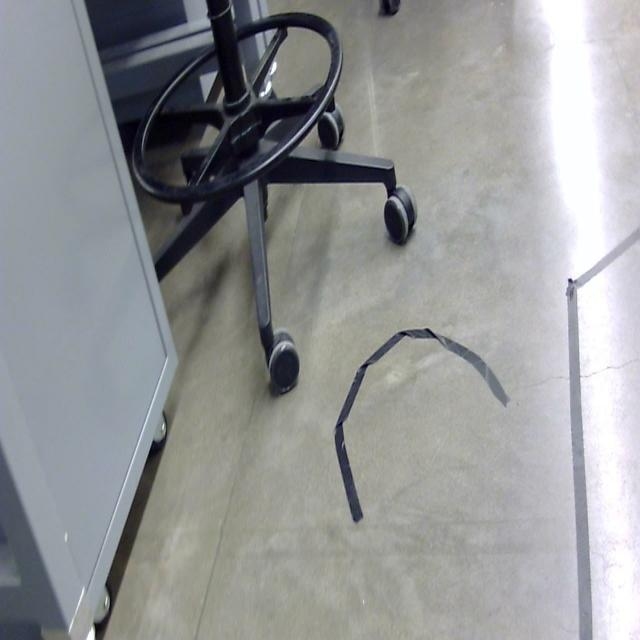tape: (332, 329, 510, 526), (566, 226, 640, 640)
